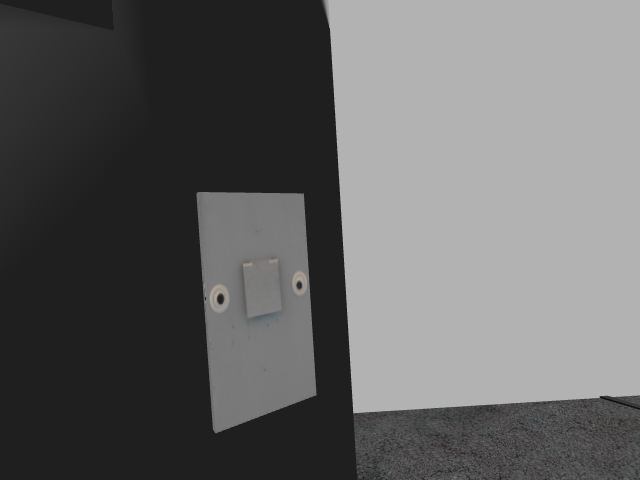facade: (208, 258, 307, 317)
